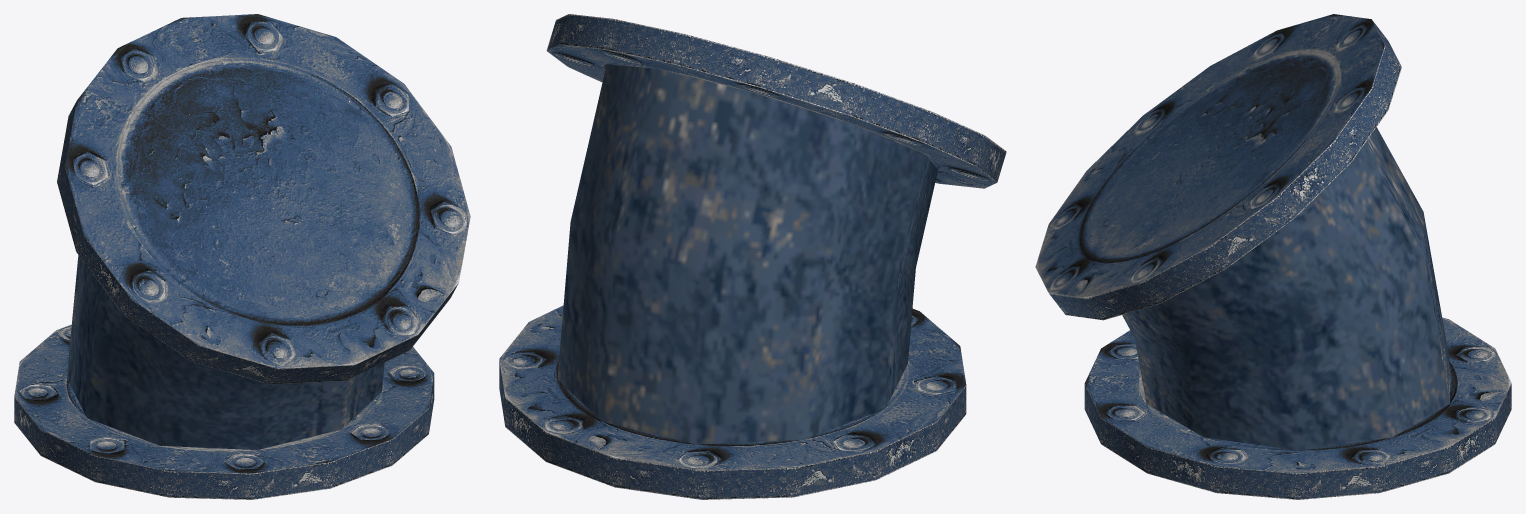
The model's file is elbow_35_blue.DAE.
3 renders of one model, left to right at view 1: azimuth 30°, elevation 25°; view 2: azimuth 150°, elevation 25°; view 3: azimuth 270°, elevation 25°, orthographic. The views are drawn at different scales.
Visible parts, largest first — view 1: Object530, Torus037; view 2: Torus037, Object530; view 3: Object530, Torus037.
Part boxes in pixels (x1,y1,x2,y2): Object530: [14, 14, 470, 499]; Torus037: [66, 255, 384, 449]; Torus037: [557, 64, 937, 444]; Object530: [499, 14, 1006, 499]; Object530: [1035, 14, 1511, 499]; Torus037: [1122, 127, 1449, 450].
Size of the model in its own units: 0.6566 by 0.7326 by 0.6188.
